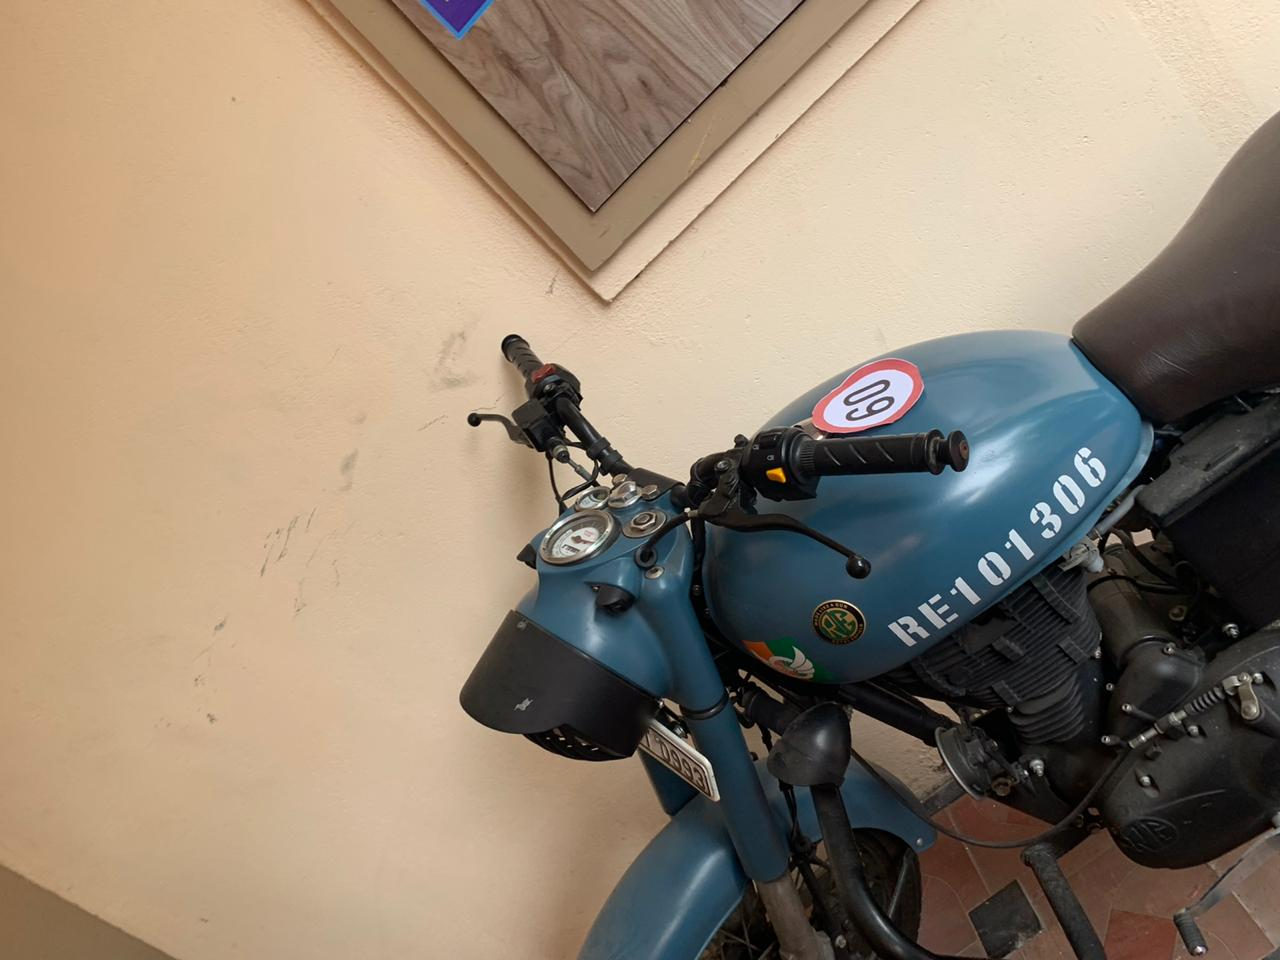SPEED LIMIT (60 KM/H): (801, 332, 944, 440)
